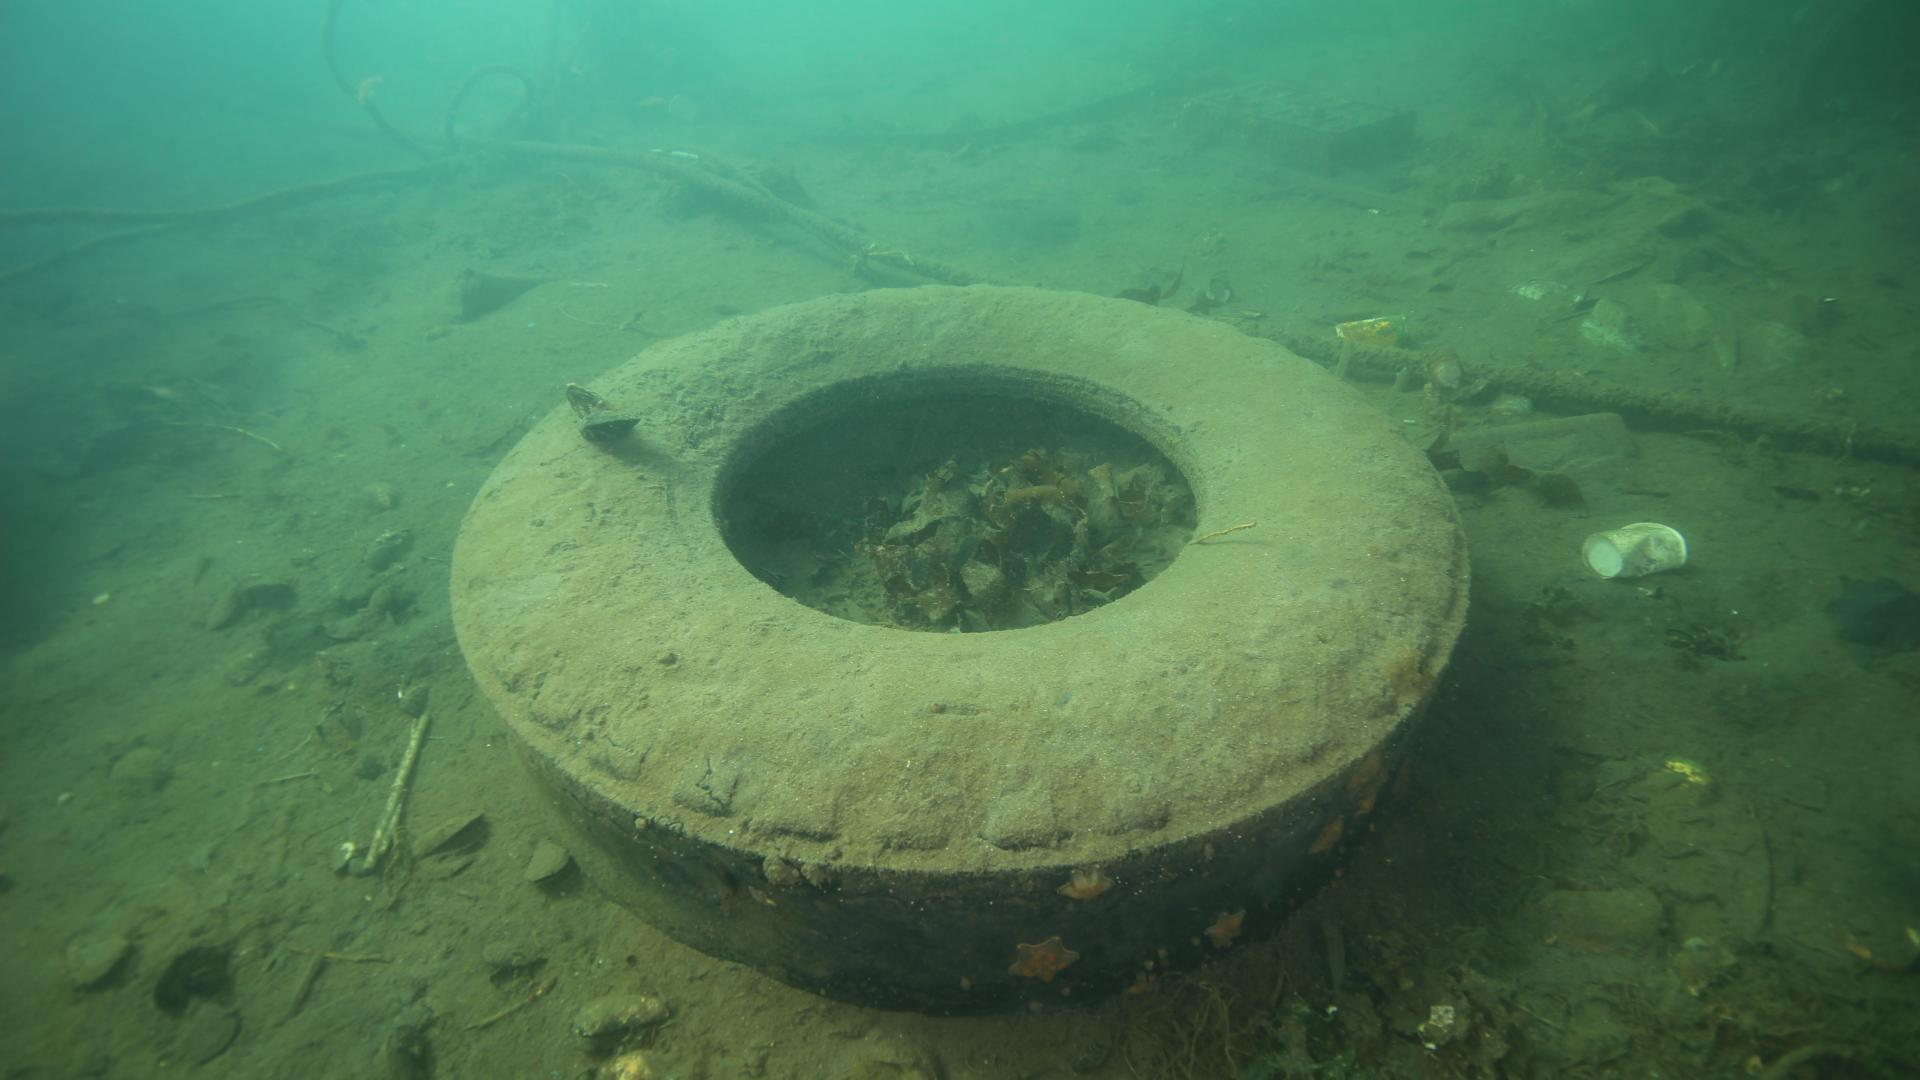bundle of ropes: (0, 0, 1011, 286)
rope: (1240, 327, 1920, 462)
tire: (446, 284, 1469, 1010)
